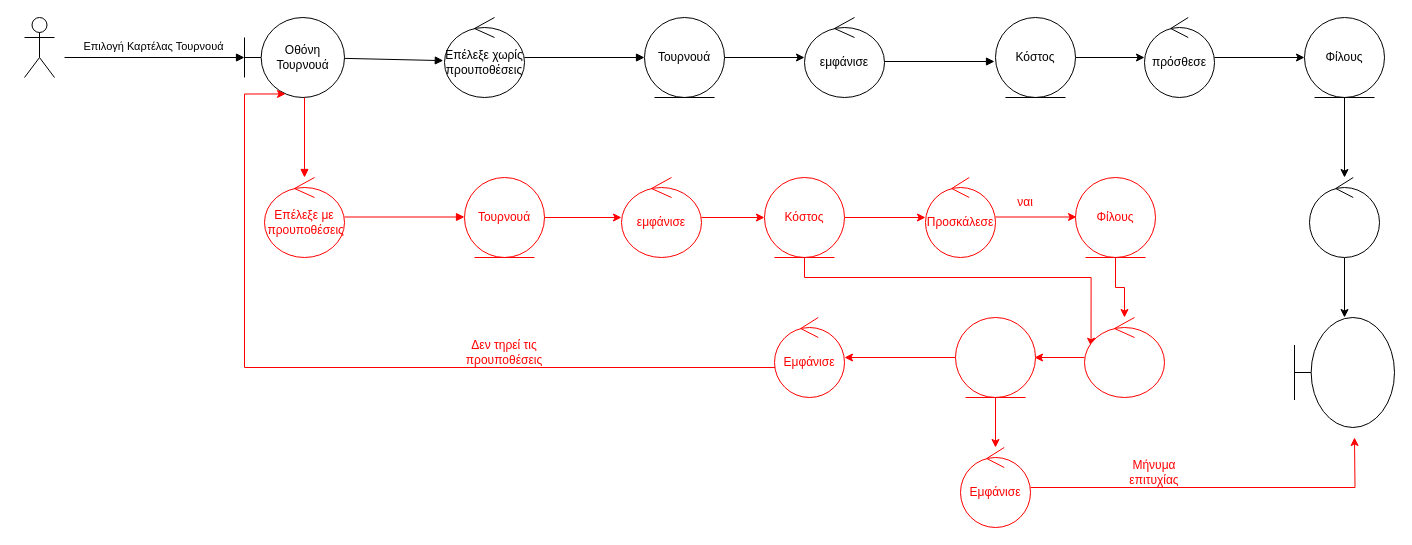
This 1412x545 diagram has some shape labels left out. The shapes that lost their labels are listed below. From the top down, each one's centre as x and y in pixels, then its label:
(x=39, y=47): Παίκτης
(x=1344, y=217): Επιβεβαίωσε και μεταφόρα
(x=995, y=357): Προυποθέσεις
(x=1124, y=357): έλεγξε
(x=1344, y=372): Οθόνη Πληρωμής
